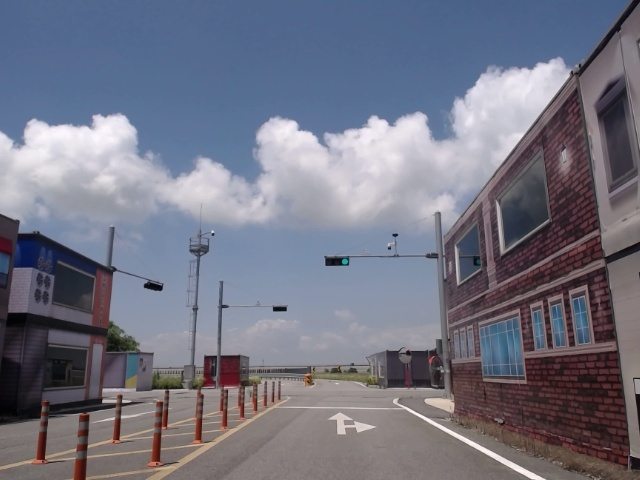green_3: (326, 257, 349, 266)
